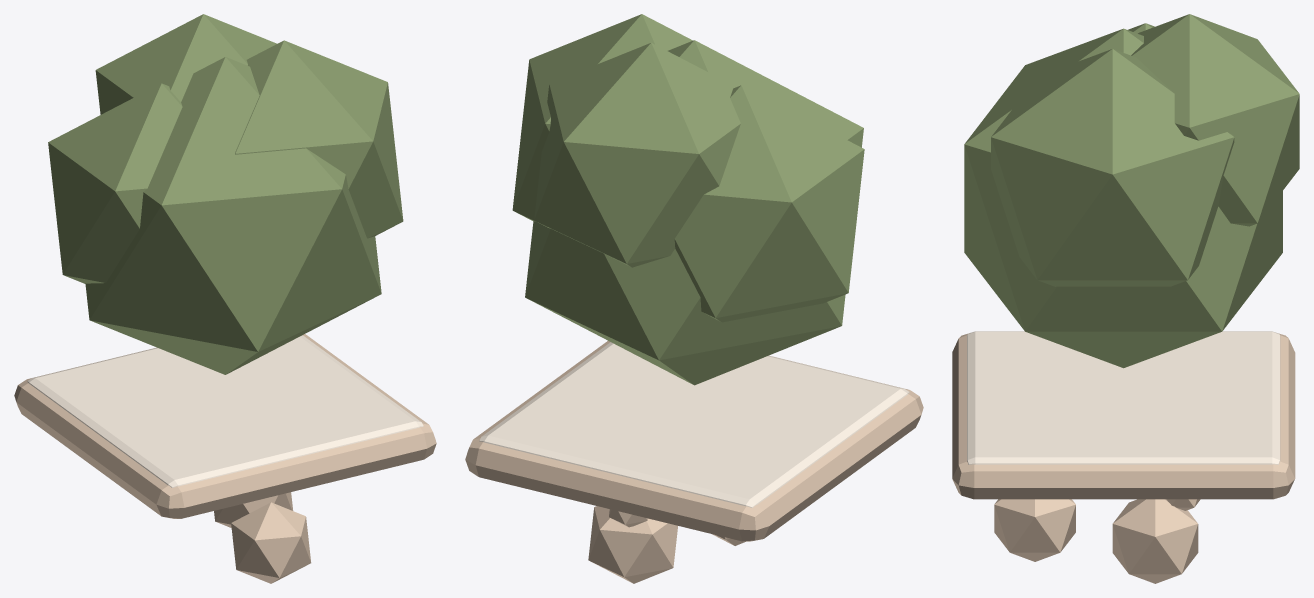
File: island_kg.glb
3 renders of one model, left to right at view 1: azimuth 30°, elevation 25°; view 2: azimuth 150°, elevation 25°; view 3: azimuth 270°, elevation 25°, orthographic. The views are drawn at different scales.
Visible parts, largest first — view 1: island_kg; view 2: island_kg; view 3: island_kg.
Boxes of the visible parts, x1=… form: island_kg: x1=14, y1=14, x2=436, y2=583; island_kg: x1=465, y1=14, x2=923, y2=583; island_kg: x1=952, y1=14, x2=1299, y2=583.
Bounding box in the file's own units: 1.74 × 2.78 × 1.58.
